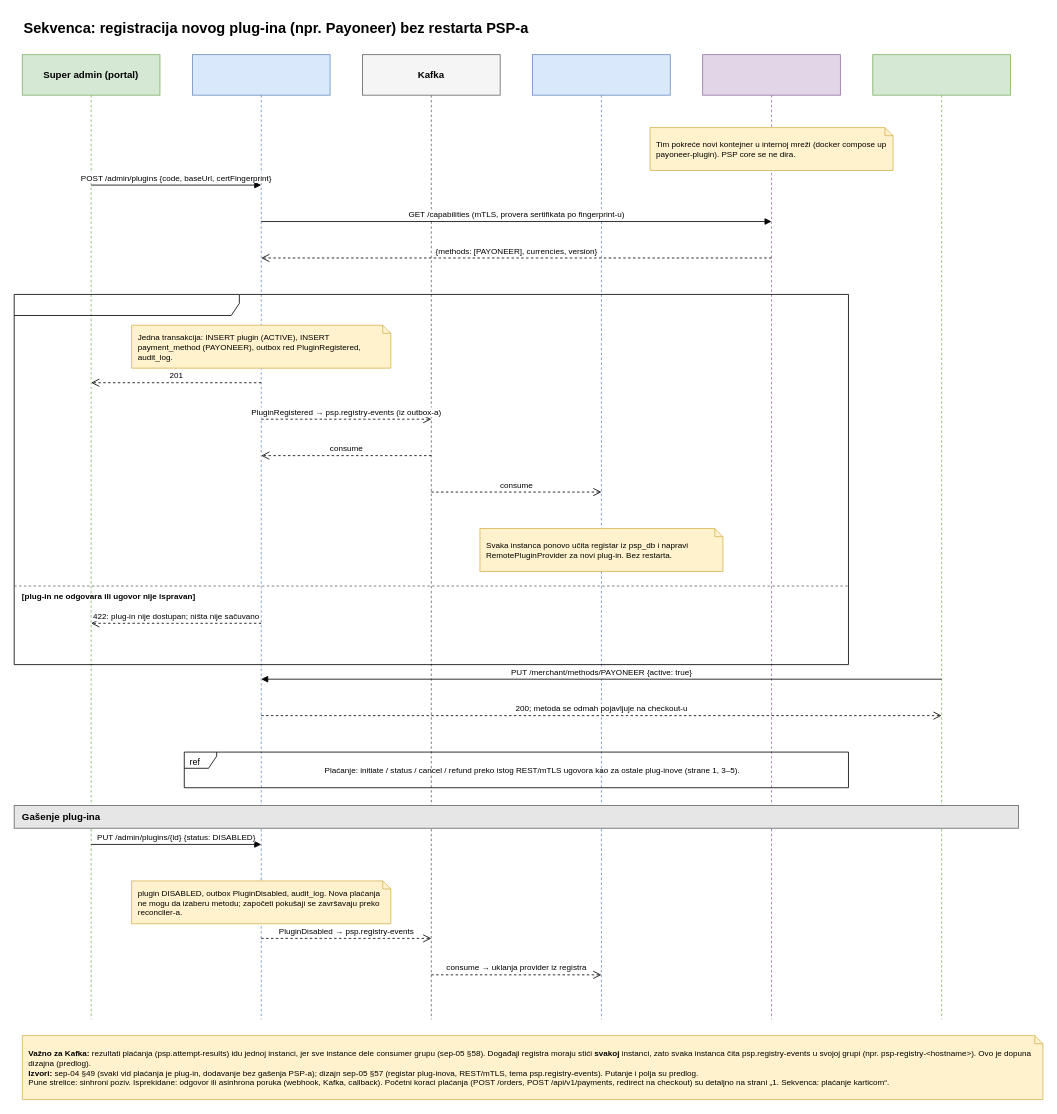
The diagram is 1057 pixels wide and 1114 high, and some of its shapes have lost their labels. The box of each missing label's shape, as (x1, y1, x2, y2) in pixels:
Admin klijenta (portal): (872, 54, 1010, 1019)
alt [plug-in odgovara i ugovor je ispravan]: (13, 294, 848, 665)
Novi plug-in: (702, 54, 840, 1019)
PSP core #1: (192, 54, 330, 1019)
PSP core #2: (532, 54, 670, 1019)
